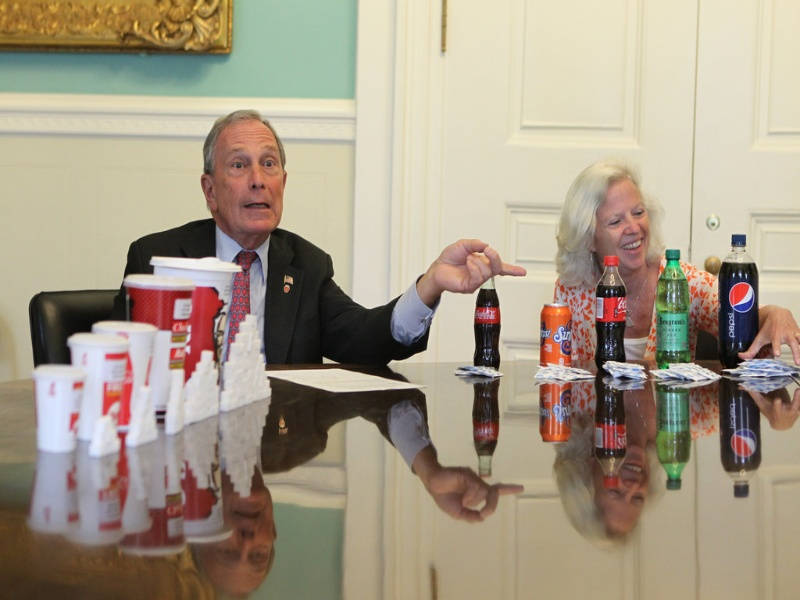Can: (524, 282, 591, 395)
Plastic bottle: (689, 226, 776, 382), (435, 242, 521, 367), (575, 219, 642, 364), (632, 245, 699, 363)
